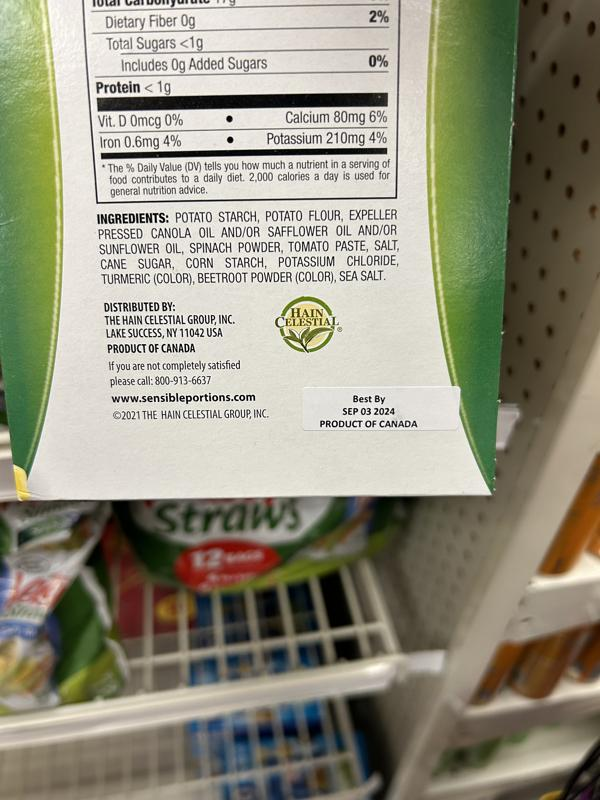ingredients: (94, 207, 402, 287)
